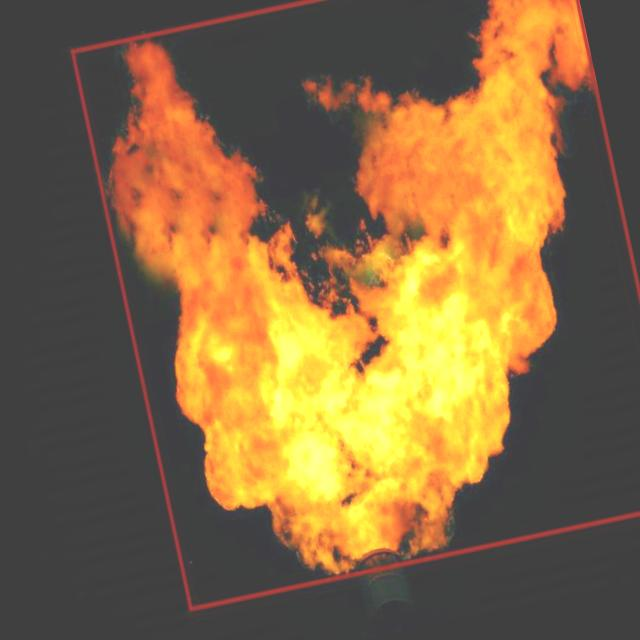fire: (70, 0, 640, 610)
